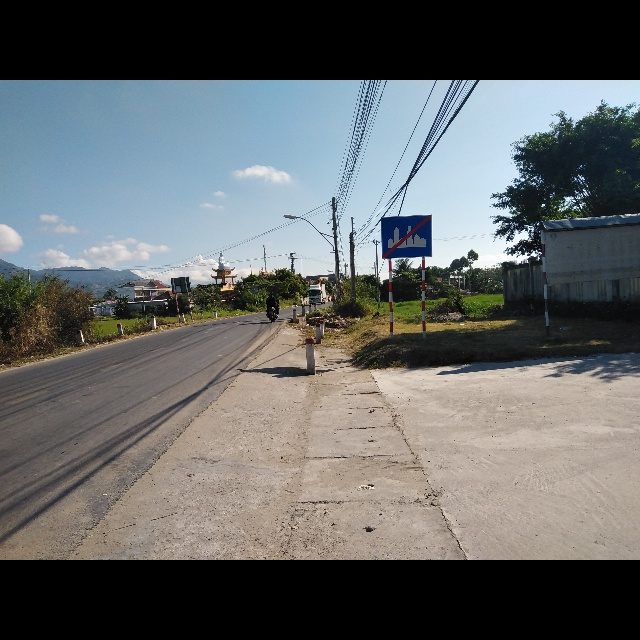Hết khu đông dân cư: (381, 215, 434, 258)
